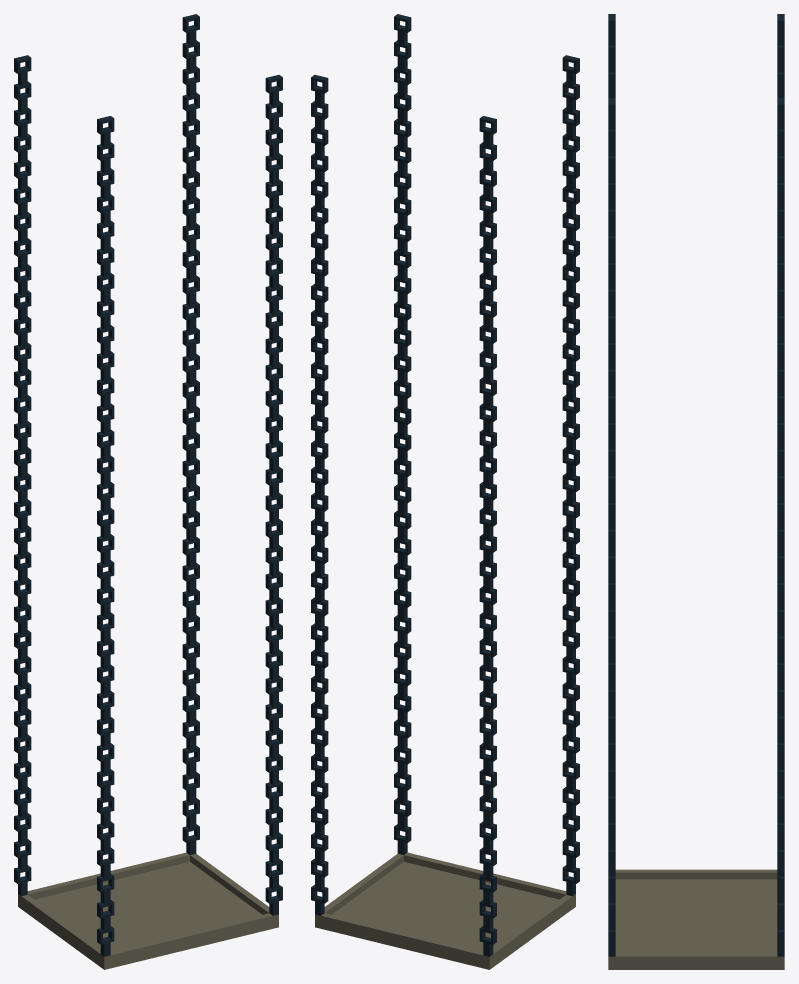
File: Ugly dungeon platform.fbx
3 views of the same model, side by side, from view 1: azimuth 30°, elevation 25°; view 2: azimuth 150°, elevation 25°; view 3: azimuth 270°, elevation 25° (orthographic). The views are drawn at different scales.
Visible parts, largest first — view 1: Ugly platform; view 2: Ugly platform; view 3: Ugly platform.
Part boxes in pixels (bbox=[...]): Ugly platform: bbox=[14, 14, 282, 969]; Ugly platform: bbox=[311, 14, 579, 969]; Ugly platform: bbox=[608, 14, 784, 969].
Bounding box in the file's own units: 1460 × 6500 × 1200.
